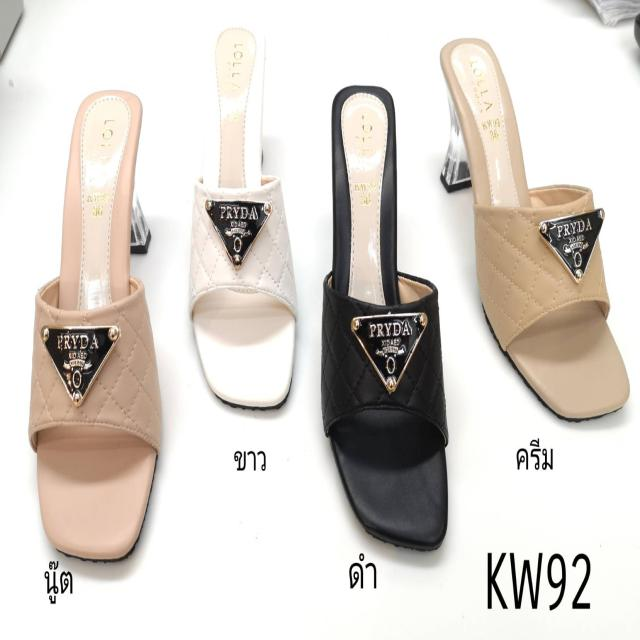black: (321, 87, 454, 540)
cream: (441, 39, 632, 424)
nood: (30, 81, 156, 564)
white: (190, 18, 300, 410)
